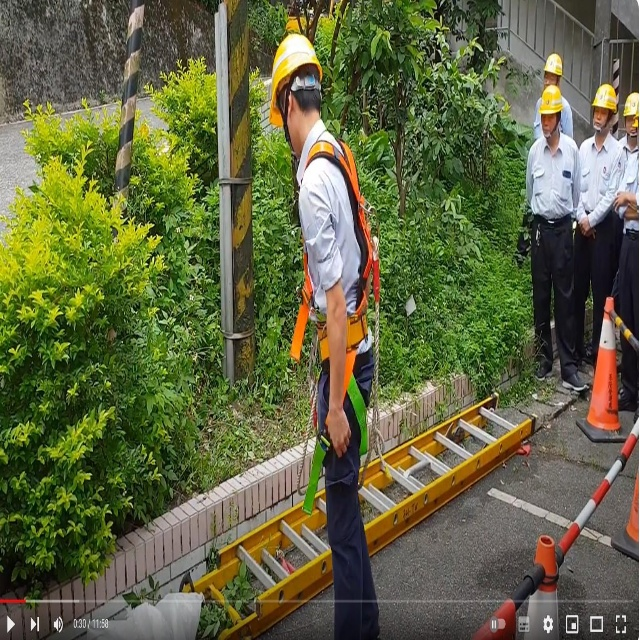Arnes_seguridad: (291, 134, 374, 517)
